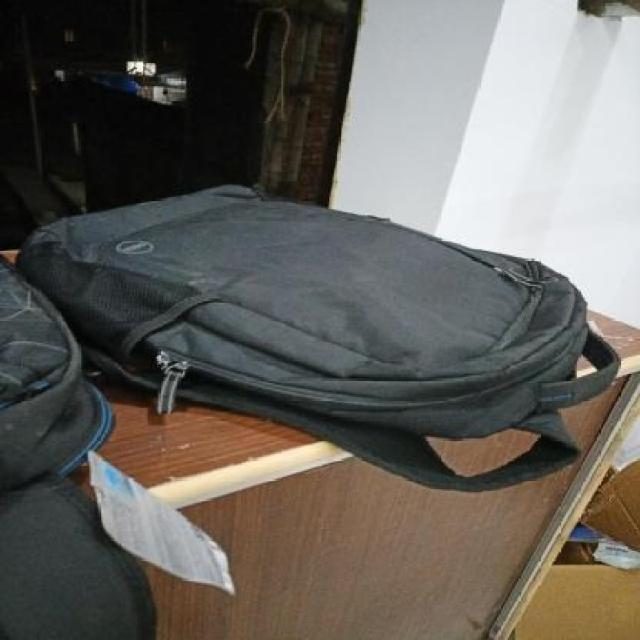backpack: (10, 178, 628, 497)
